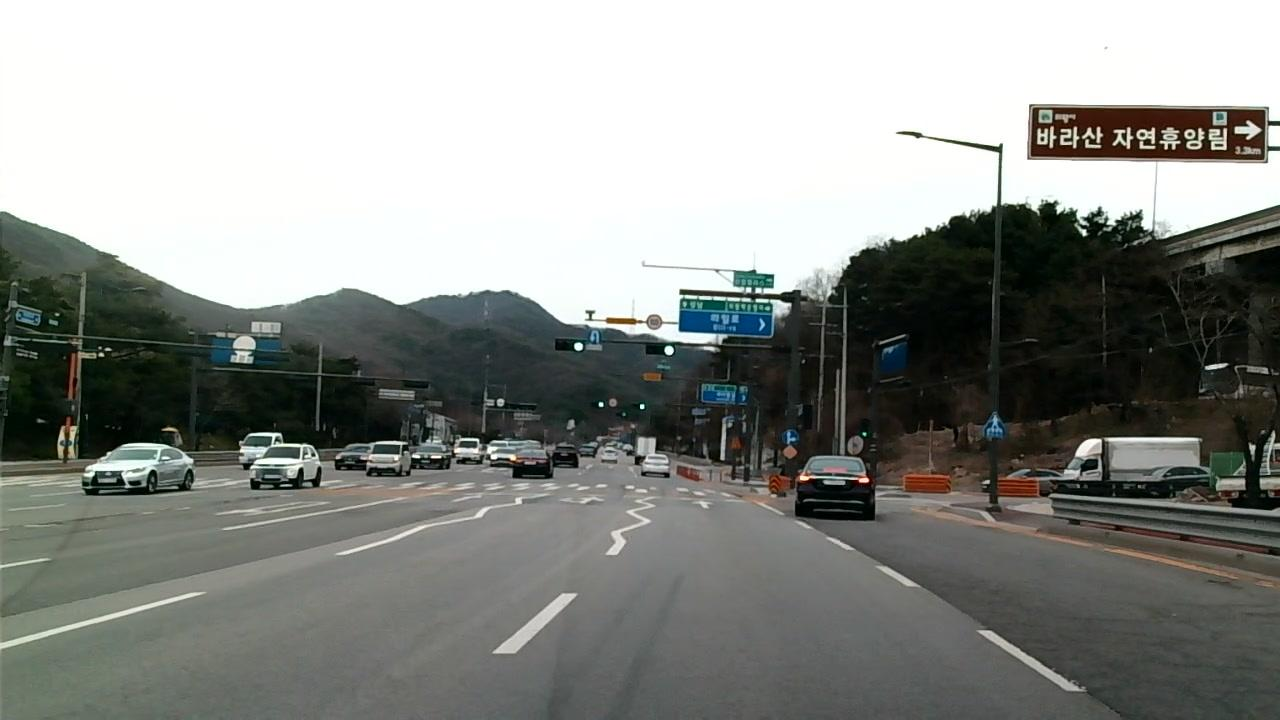erosion: (1008, 601, 1280, 720)
pothole: (1205, 575, 1241, 595)
